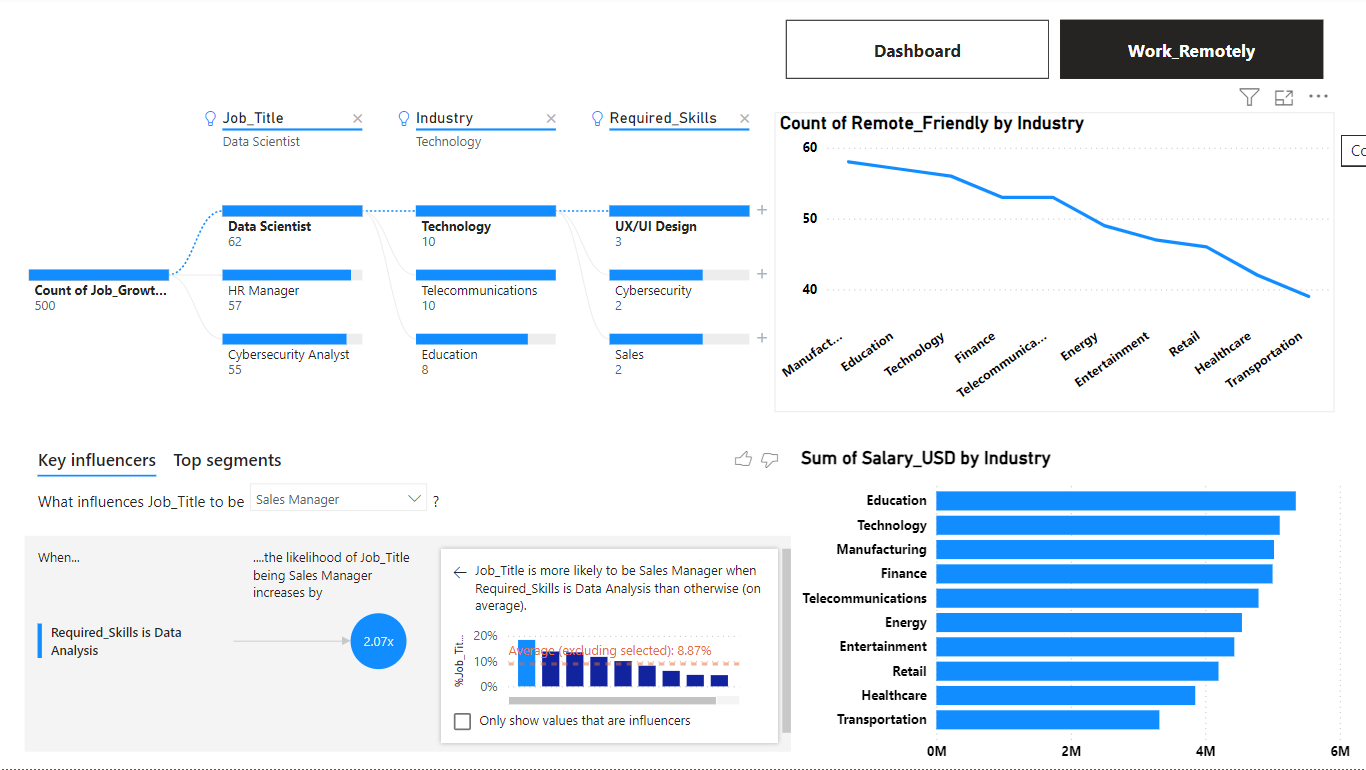

What the dashboard file says about the page in this screenshot:
{"tool":"powerbi","page":{"name":"Work_Remotely","canvas":[1280,720],"ordinal":1},"visuals":[{"type":"decompositionTreeVisual","fields":{"Analyze":["CountNonNull(ai_job_market_insights.Job_Growth_Projection)"],"ExplainBy":["ai_job_market_insights.Job_Title","ai_job_market_insights.Industry","ai_job_market_insights.Required_Skills","ai_job_market_insights.Location"]},"box":[0,87.8,722.7,279.9],"z":0},{"type":"lineChart","fields":{"Category":["ai_job_market_insights.Industry"],"Y":["CountNonNull(ai_job_market_insights.Remote_Friendly)"]},"box":[722.7,107.8,521.2,279.9],"z":1000},{"type":"keyDriversVisual","fields":{"Target":["ai_job_market_insights.Job_Title"],"ExplainBy":["ai_job_market_insights.Required_Skills"]},"box":[21.1,406.4,722.7,301],"z":2000},{"type":"barChart","fields":{"Category":["ai_job_market_insights.Industry"],"Y":["Sum(ai_job_market_insights.Salary_USD)"]},"box":[742.6,419.3,521.2,301],"z":3000},{"type":"pageNavigator","box":[733.2,22.3,501.3,55.1],"z":4000}]}

Visuals, with their boxes in screenshot pixels (x1, y1, x2, y2), scaled from the page's 1280x720 canvas onto the 1366x770 screenshot:
decompositionTreeVisual - CountNonNull(ai_job_market_insights.Job_Growth_Projection) x ai_job_market_insights.Job_Title: bbox(0, 94, 771, 393)
lineChart - ai_job_market_insights.Industry x CountNonNull(ai_job_market_insights.Remote_Friendly): bbox(771, 115, 1327, 415)
keyDriversVisual - ai_job_market_insights.Job_Title x ai_job_market_insights.Required_Skills: bbox(23, 435, 794, 757)
barChart - ai_job_market_insights.Industry x Sum(ai_job_market_insights.Salary_USD): bbox(792, 448, 1349, 769)
pageNavigator: bbox(782, 24, 1317, 83)
